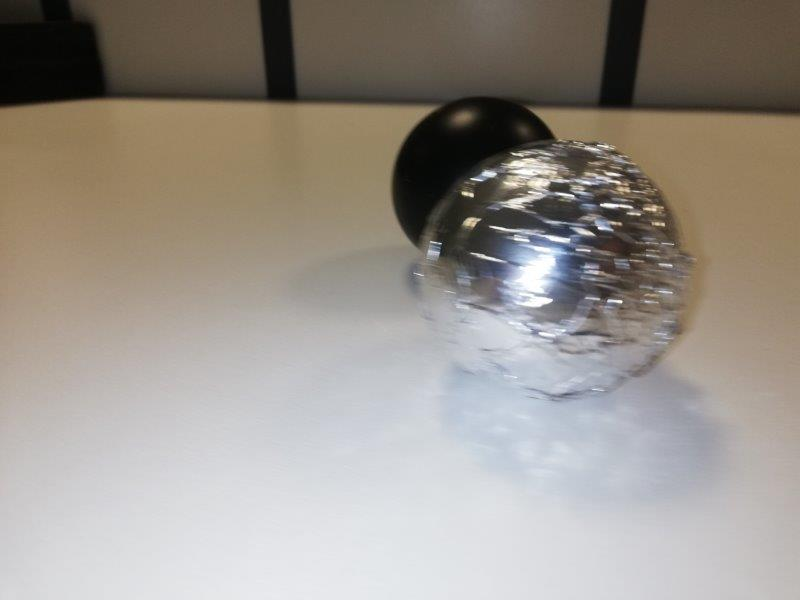bianca: (419, 138, 683, 397)
nera: (393, 93, 559, 259)
